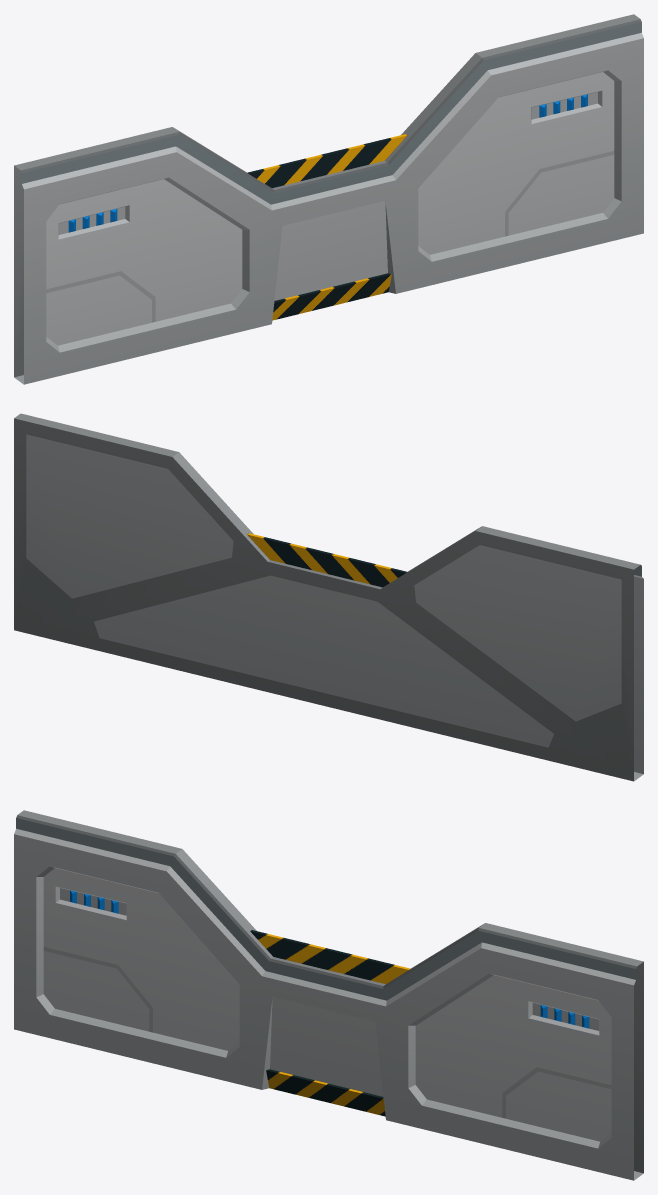
File: Door_panel_014.fbx
3 renders of one model, top to bottom at view 1: azimuth 30°, elevation 25°; view 2: azimuth 150°, elevation 25°; view 3: azimuth 330°, elevation 25°, orthographic.
Parts seen in each view (by area): view 1: Door_panel_014; view 2: Door_panel_014; view 3: Door_panel_014.
Part boxes in pixels (box(x1,y1,x2,y2)): Door_panel_014: box(14, 14, 643, 384); Door_panel_014: box(14, 413, 643, 781); Door_panel_014: box(14, 810, 643, 1180).
Bounding box in the file's own units: 500 × 13.92 × 163.
